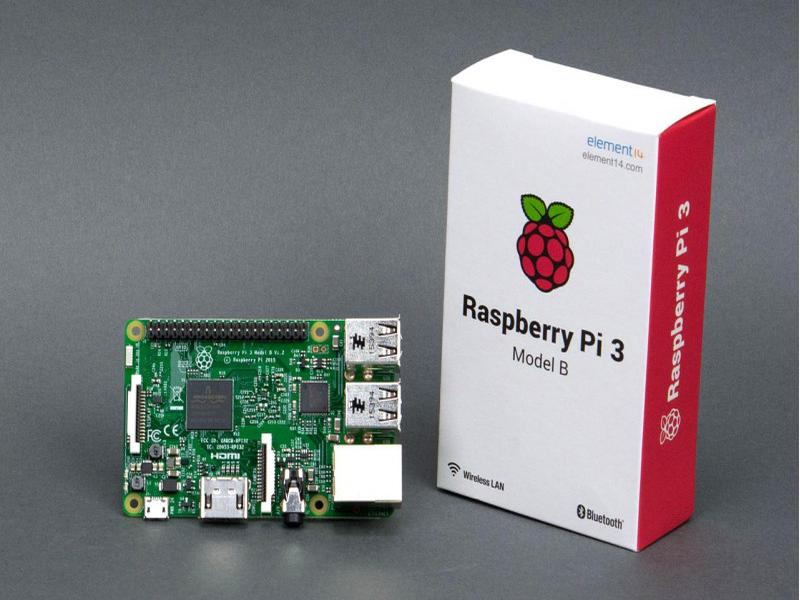Raspberry Pi: (123, 317, 403, 529)
